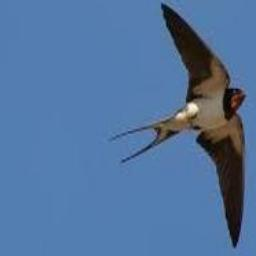Swallow: (110, 3, 249, 249)
